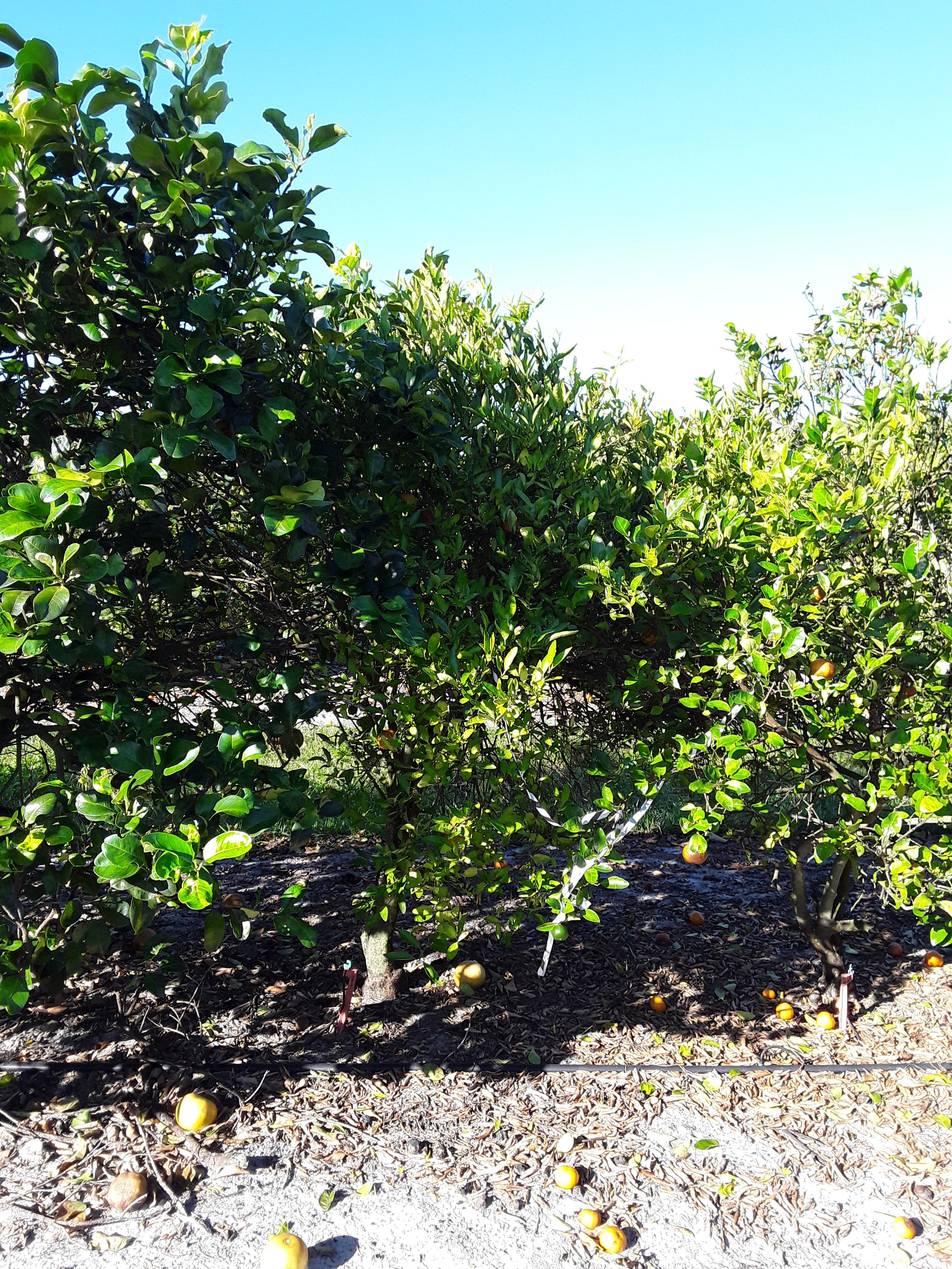fruit_on_ground: (683, 837, 710, 872), (440, 823, 470, 854), (804, 657, 841, 681), (273, 726, 307, 752), (415, 502, 447, 528), (633, 621, 665, 644), (374, 726, 398, 753), (487, 854, 512, 879), (500, 512, 524, 537), (394, 491, 418, 512), (807, 586, 831, 604), (552, 921, 569, 945), (900, 685, 913, 699)
fruit_on_tree: (260, 1227, 313, 1269), (173, 1091, 221, 1134), (107, 1171, 150, 1215), (452, 959, 489, 991), (597, 1221, 627, 1256), (894, 1215, 922, 1248), (553, 1161, 581, 1192), (578, 1206, 607, 1231), (133, 927, 158, 953), (223, 889, 250, 911), (814, 1008, 836, 1032), (924, 948, 946, 970), (402, 1137, 423, 1157), (886, 940, 904, 960), (688, 907, 705, 928), (777, 1002, 794, 1023), (650, 994, 665, 1014), (430, 1146, 448, 1160), (761, 987, 777, 1002), (657, 929, 670, 944)
